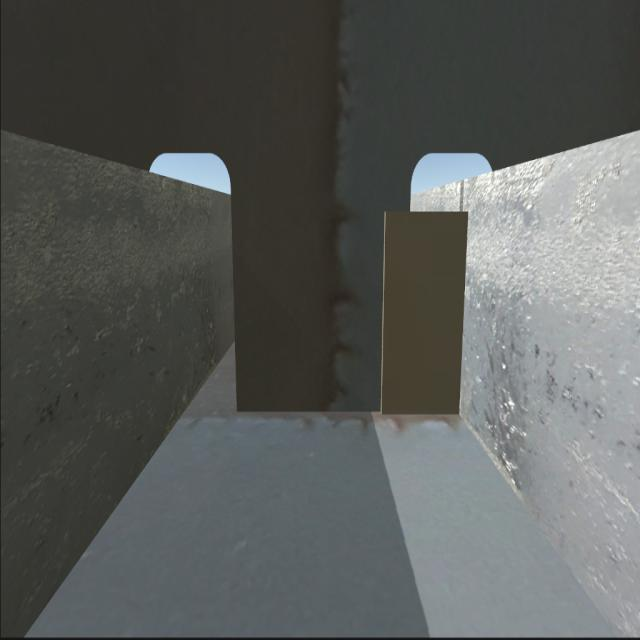fillet_yong_jeop_jang: (238, 404, 460, 418)
longi_yong_jeop_jang: (453, 209, 470, 416)
plate_CP01: (383, 209, 468, 415)
